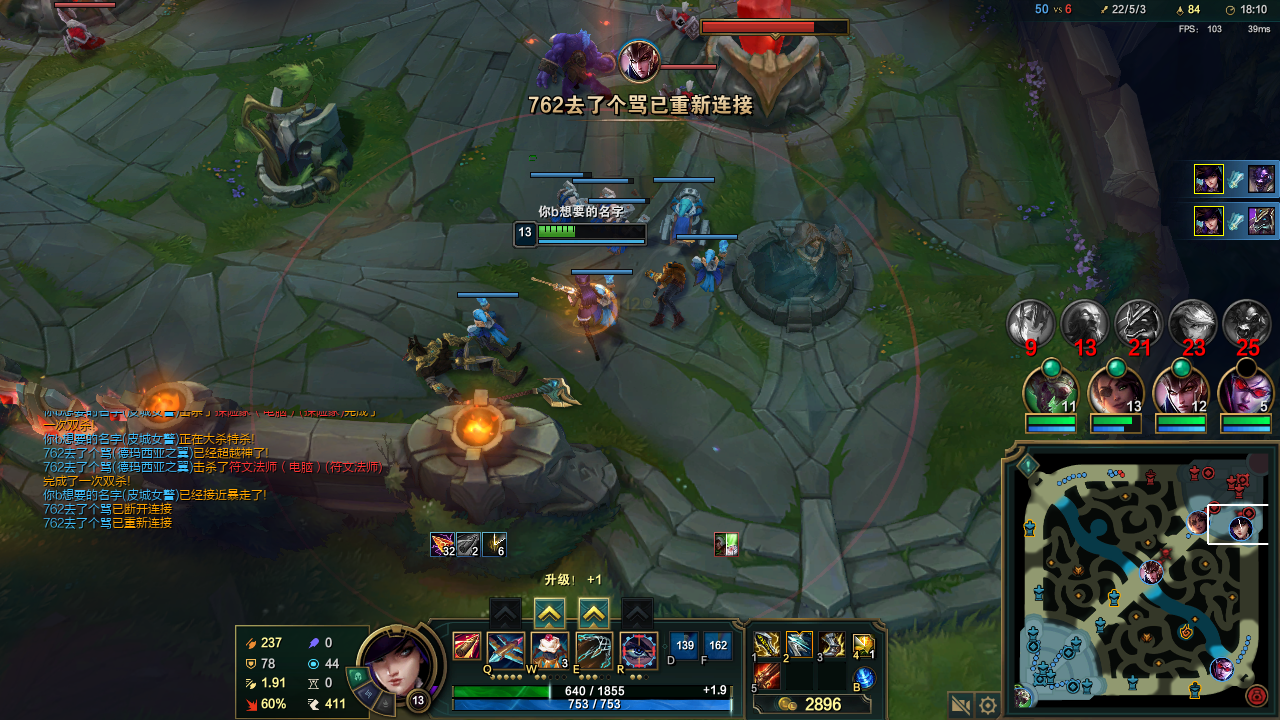DFSJ: (698, 21, 849, 122)
DFXB: (667, 6, 697, 39), (668, 81, 696, 95)
Shenji: (534, 602, 561, 624), (582, 600, 603, 621)
WFXB: (652, 169, 720, 240), (458, 297, 507, 344), (687, 248, 729, 293), (595, 193, 618, 215), (616, 215, 653, 228), (558, 189, 583, 205)
